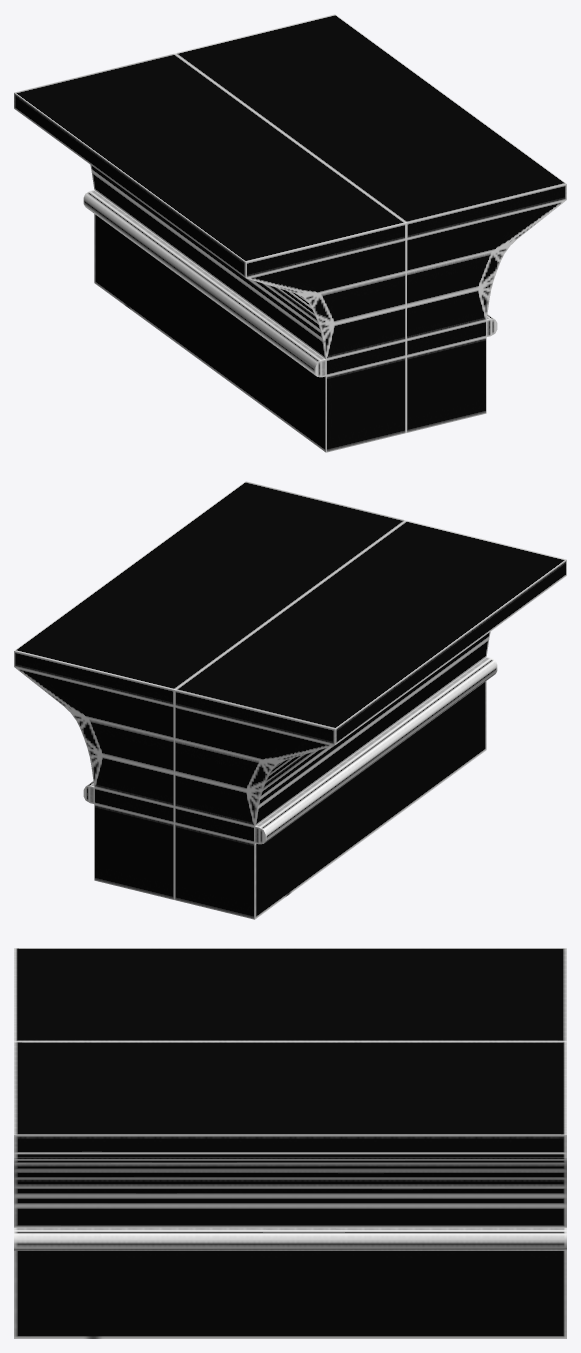
The model's file is Roof06.fbx.
3 views of the same model, one above another, from view 1: azimuth 30°, elevation 25°; view 2: azimuth 150°, elevation 25°; view 3: azimuth 270°, elevation 25° (orthographic). The views are drawn at different scales.
Visible parts, largest first — view 1: Roof01_2; view 2: Roof01_2; view 3: Roof01_2.
Part boxes in pixels (bbox=[...]): Roof01_2: bbox=[14, 14, 566, 452]; Roof01_2: bbox=[14, 481, 566, 919]; Roof01_2: bbox=[14, 948, 566, 1338].
Size of the model in its own units: 400 by 250 by 500.
Materials: 1 (1 with a texture image).
